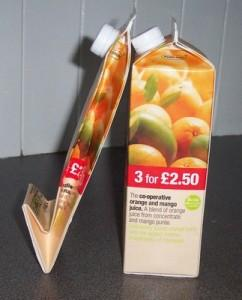cardboard: (22, 20, 132, 272), (124, 27, 215, 276)
